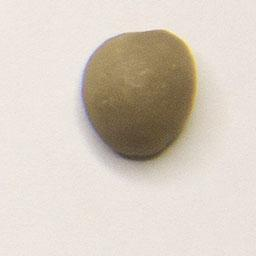premium: (77, 27, 201, 161)
